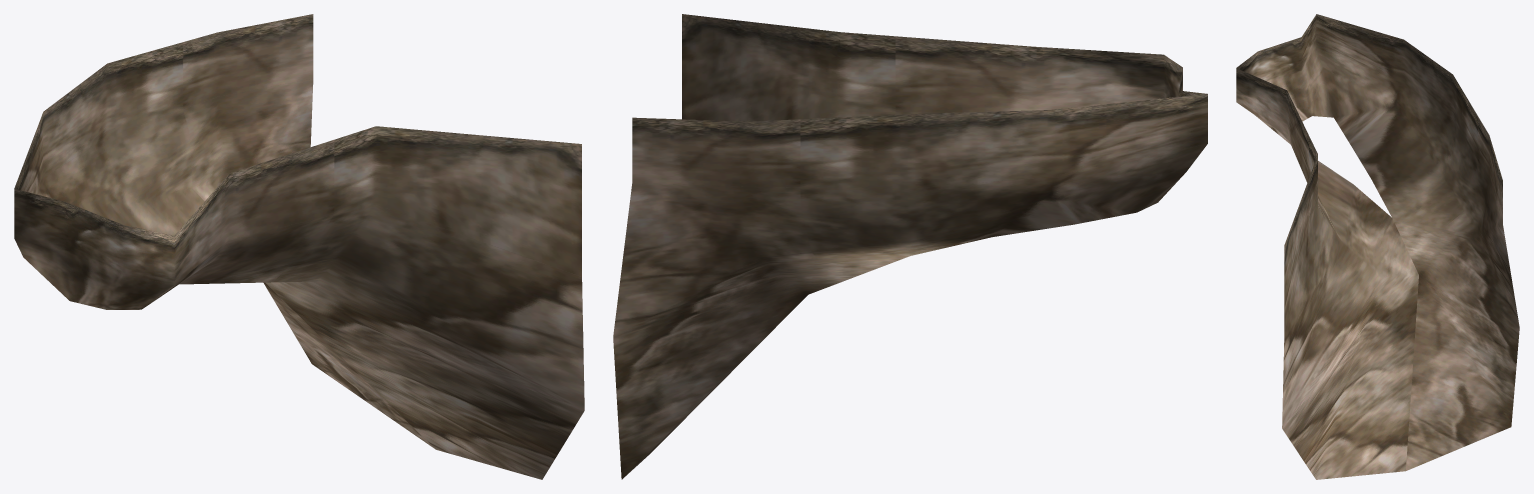
Rendered from OVERHILL_A_01_LINE48.fbx.
3 renders of one model, left to right at view 1: azimuth 30°, elevation 25°; view 2: azimuth 150°, elevation 25°; view 3: azimuth 270°, elevation 25°, orthographic. The views are drawn at different scales.
Visible parts, largest first — view 1: OVERHILL_A_01_LINE48; view 2: OVERHILL_A_01_LINE48; view 3: OVERHILL_A_01_LINE48.
Part boxes in pixels (x1,y1,x2,y2): OVERHILL_A_01_LINE48: [14, 14, 584, 479]; OVERHILL_A_01_LINE48: [613, 14, 1207, 479]; OVERHILL_A_01_LINE48: [1236, 14, 1519, 479].
Bounding box in the file's own units: 32962 × 25126 × 21568.
2 materials, 2 textured.
